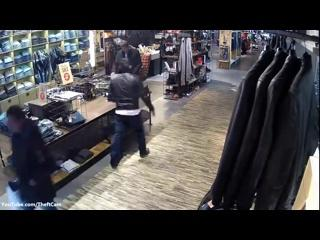Normal: (2, 104, 58, 208), (106, 62, 154, 169), (113, 37, 142, 78)
